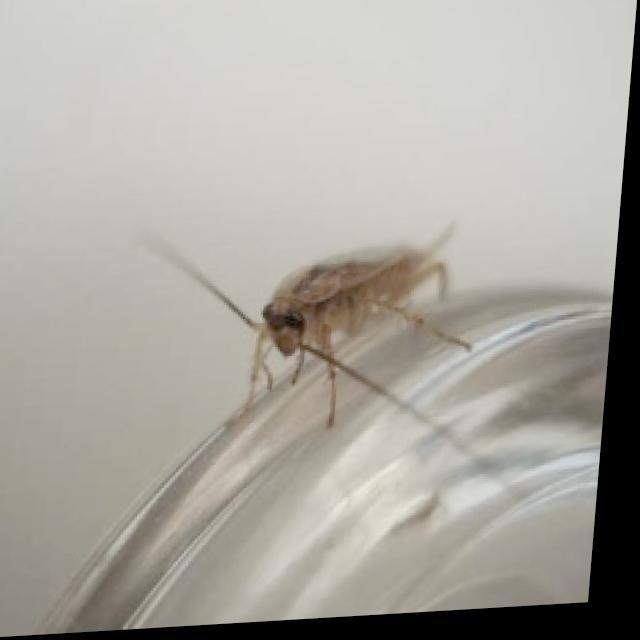cockroach: (136, 216, 479, 435)
